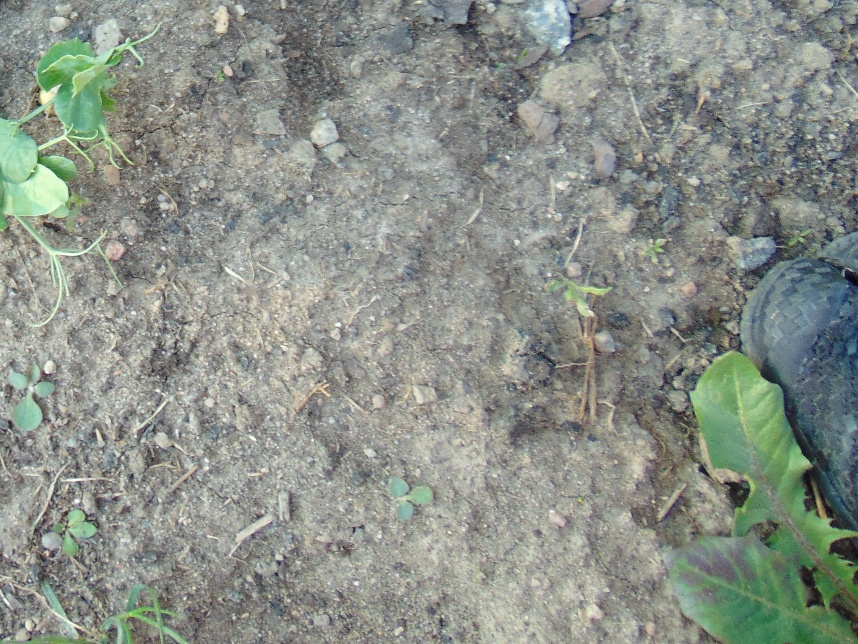crop: (1, 35, 146, 282)
weed: (669, 348, 858, 643), (8, 362, 55, 428), (545, 270, 608, 318), (387, 475, 434, 522), (51, 509, 96, 556)
